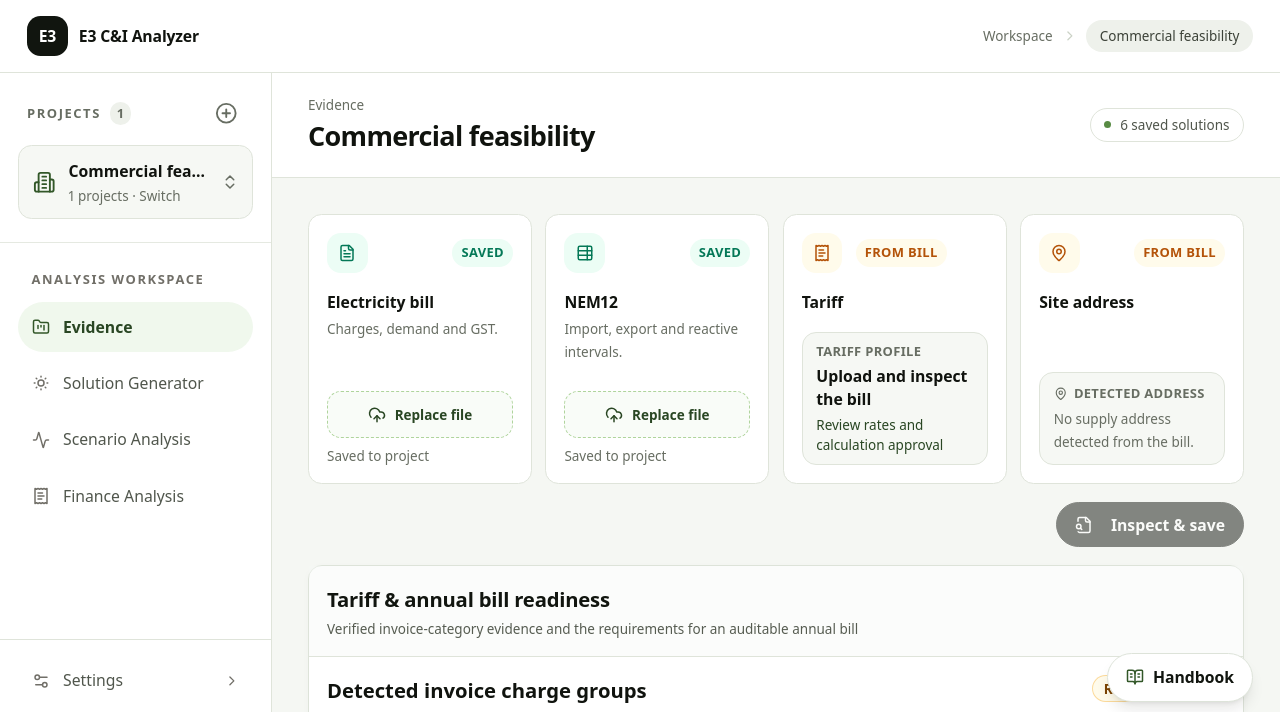
it: C&I project workspace › shows the exact Solution Generator load error and retries every required query
The image size is (1280, 712).
Check: the element named "Evidence sources" is shown, box [308, 214, 1244, 484]
Click the button "Solution Generator". click: [136, 383]
box: [18, 359, 253, 408]
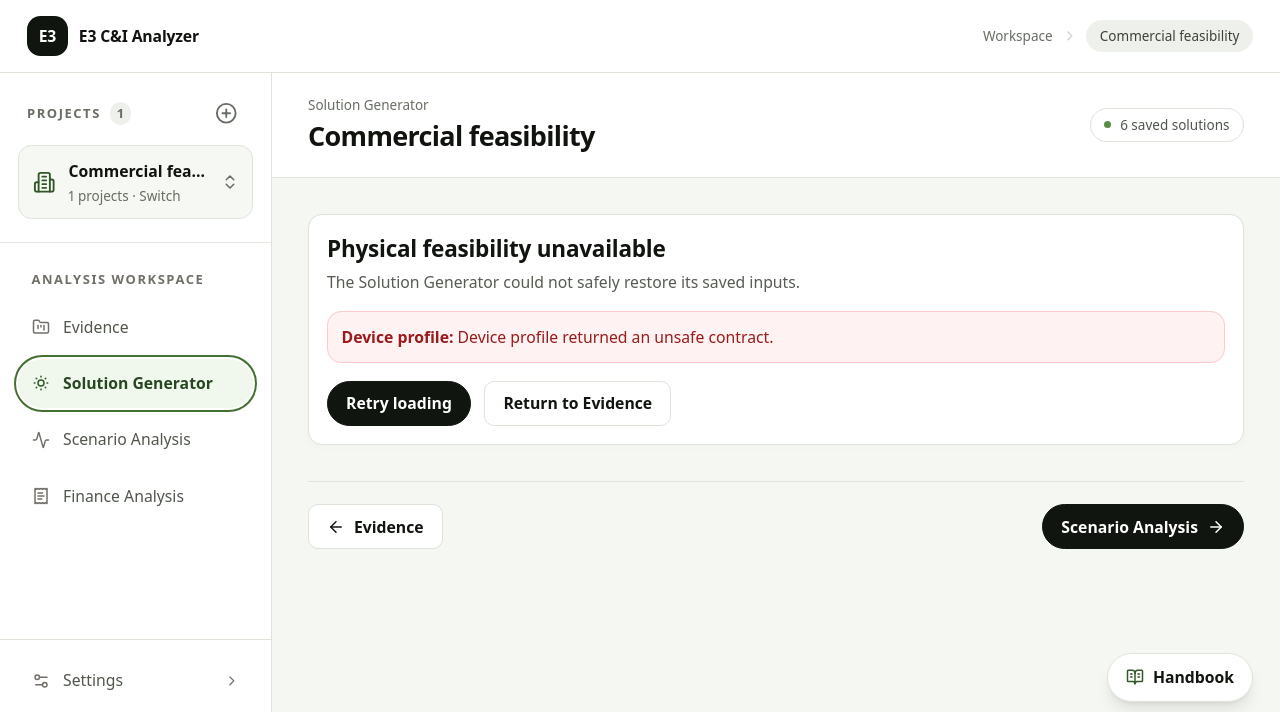
Check: the heading "Physical feasibility unavailable" is shown, box [327, 232, 666, 264]
Check: the text "Device profile: Device profile returned an unsafe contract." is shown, box [342, 326, 774, 348]
Click the button "Retry loading". click: [399, 403]
box: [327, 381, 471, 426]
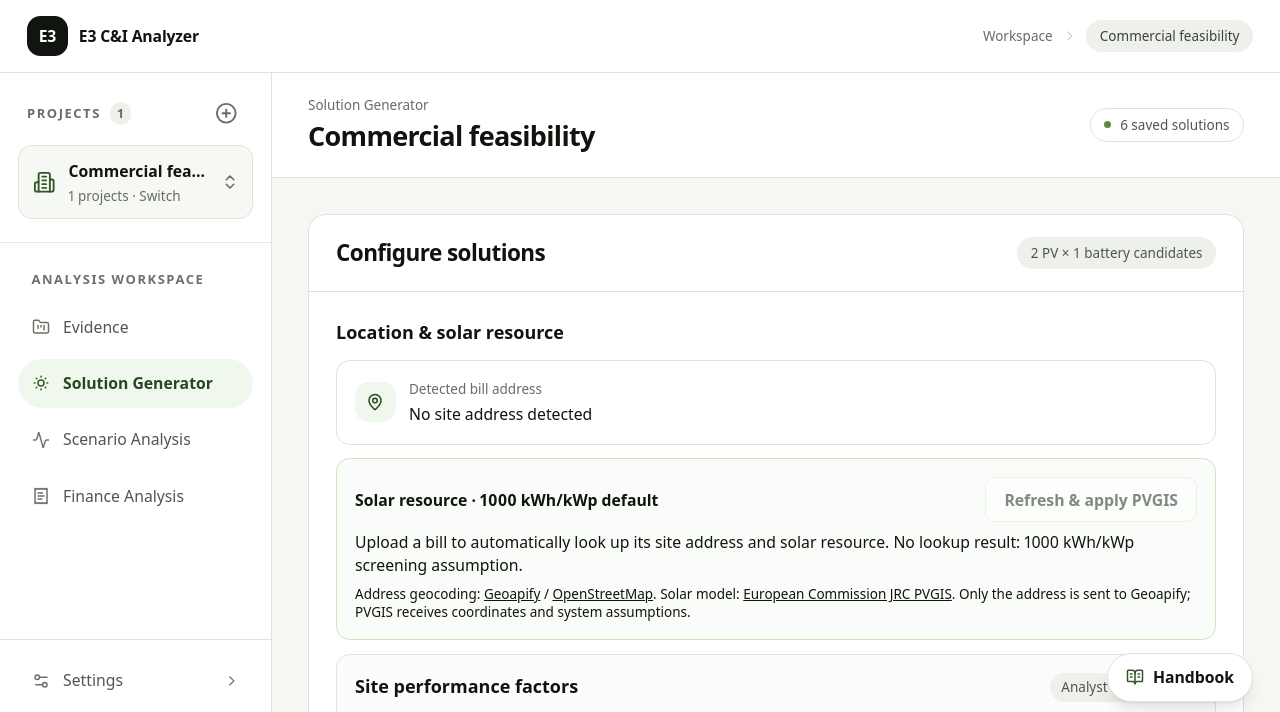
Check: the heading "Configure solutions" is shown, box [336, 237, 545, 268]
